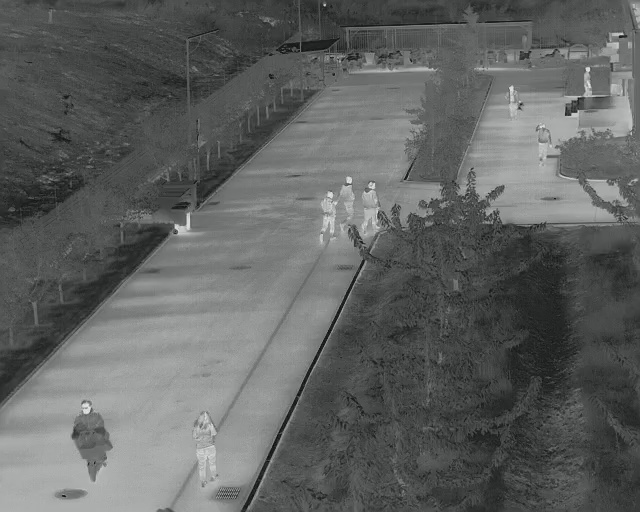NonMotorVehicle: (71, 400, 116, 483)
person: (191, 410, 220, 489), (318, 189, 340, 246), (361, 180, 383, 236), (339, 173, 357, 232), (534, 122, 555, 166), (504, 84, 526, 121), (582, 65, 593, 96)
